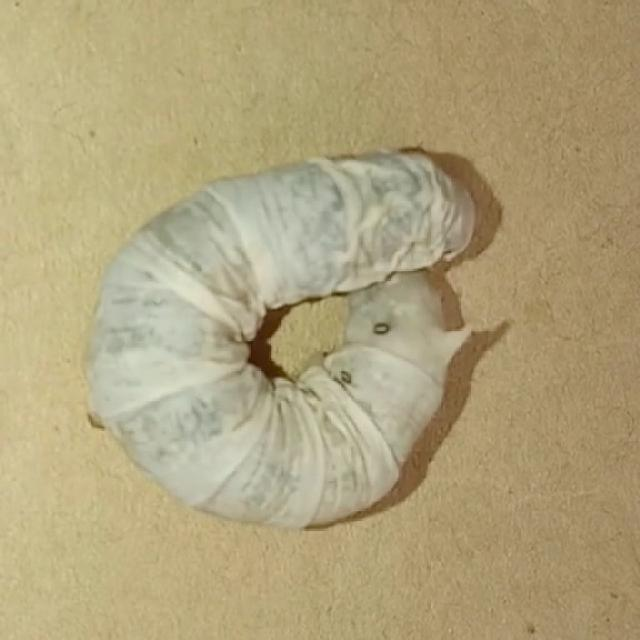Grasserie: (77, 124, 529, 562)
